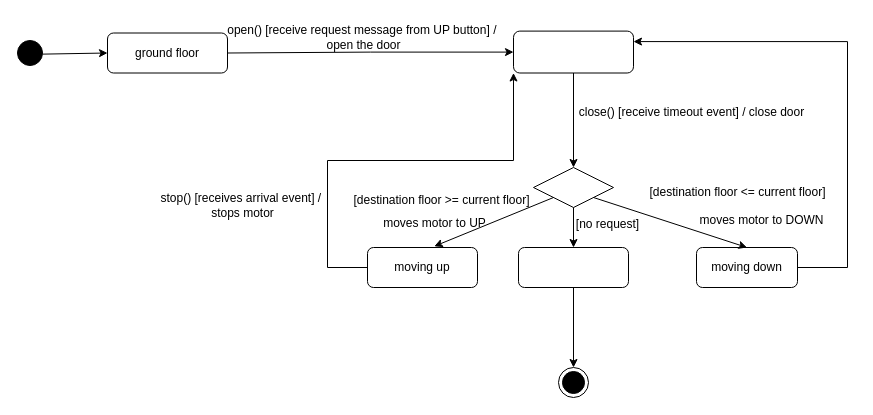
The diagram is 873 pixels wide and 415 high, and some of its shapes have lost their labels. The shapes that lost their labels are listed below. From the top down, each one's box as (x1, y1, x2, y2) in pixels, then its label:
(512, 30, 634, 73): waiting for floor number
(518, 246, 628, 288): homing
